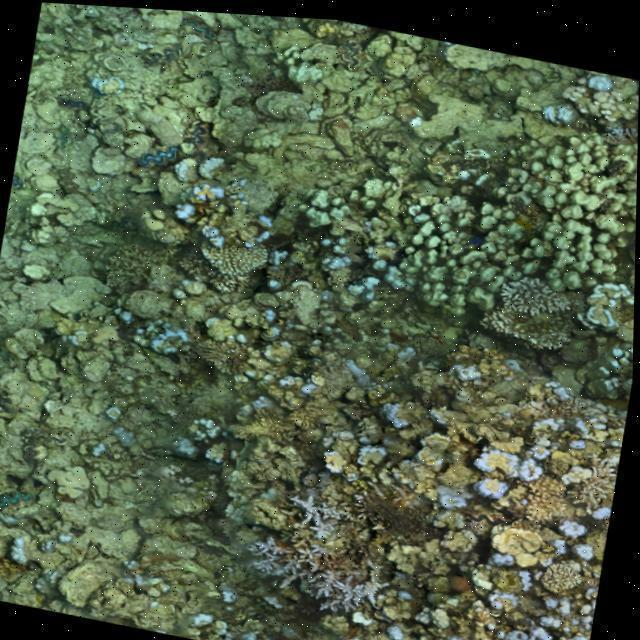Bleached Coral: (237, 566, 391, 609), (475, 441, 551, 473), (561, 511, 595, 571), (473, 469, 513, 493)
